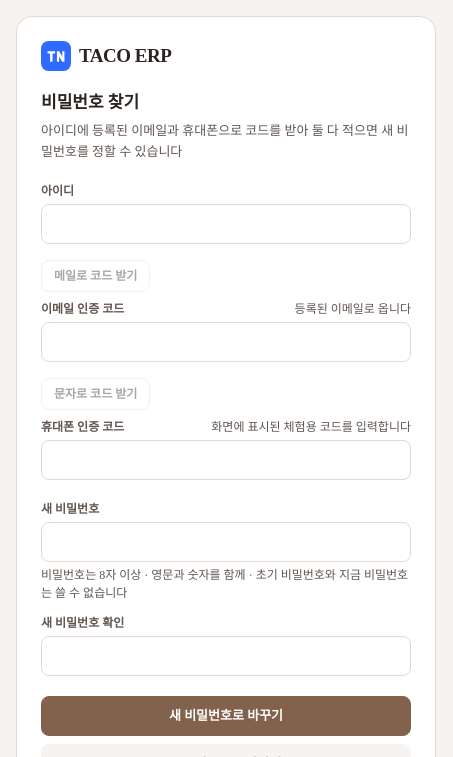
Test: 비밀번호 찾기 화면 › 새 비밀번호와 확인이 다르면 보내지 않는다
expect the text "비밀번호는 8자 이상 · 영문과 숫자를 함께 · 초기 비밀번호와 지금 비밀번호는 쓸 수 없습니다" is shown: met, box x1=41 y1=566 x2=411 y2=602
Type "Recovered-77" into the password field labelled "새 비밀번호" at {"x": 226, "y": 542}, box x1=41 y1=522 x2=411 y2=562
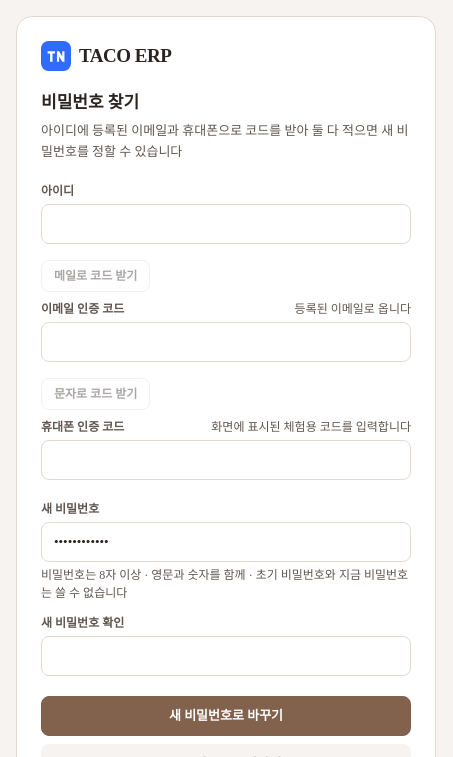
Type "Recovered-78" into the password field labelled "새 비밀번호 확인" at {"x": 226, "y": 656}, box x1=41 y1=636 x2=411 y2=676
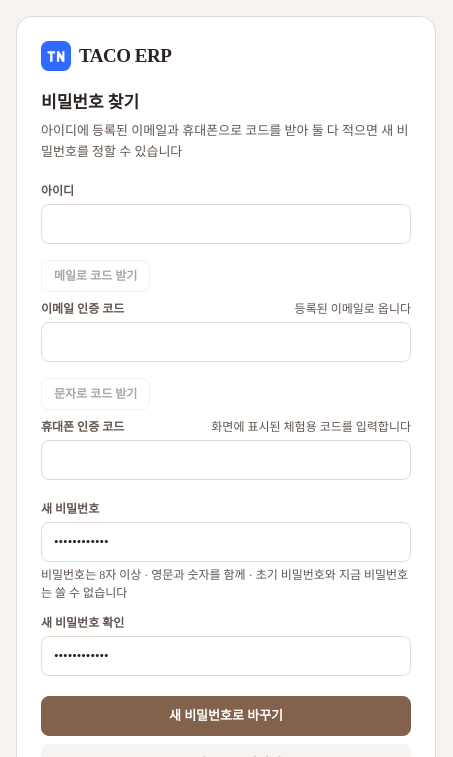
Click the button "새 비밀번호로 바꾸기" at {"x": 226, "y": 716}, box x1=41 y1=696 x2=411 y2=736
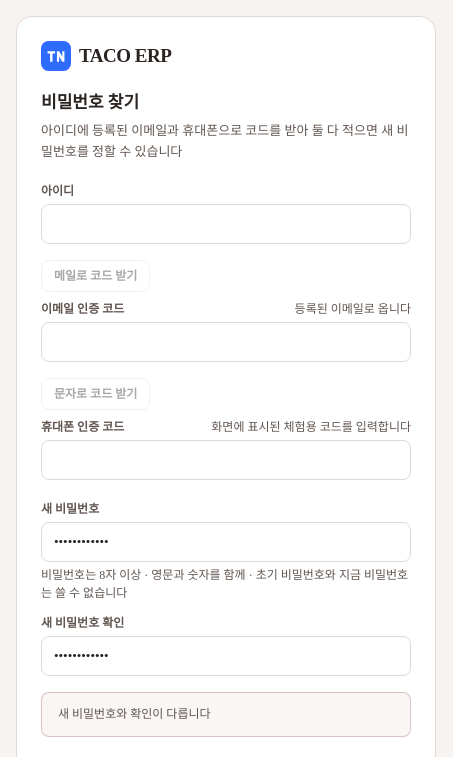
expect the text "새 비밀번호와 확인이 다릅니다" is shown: met, box x1=41 y1=692 x2=411 y2=737
